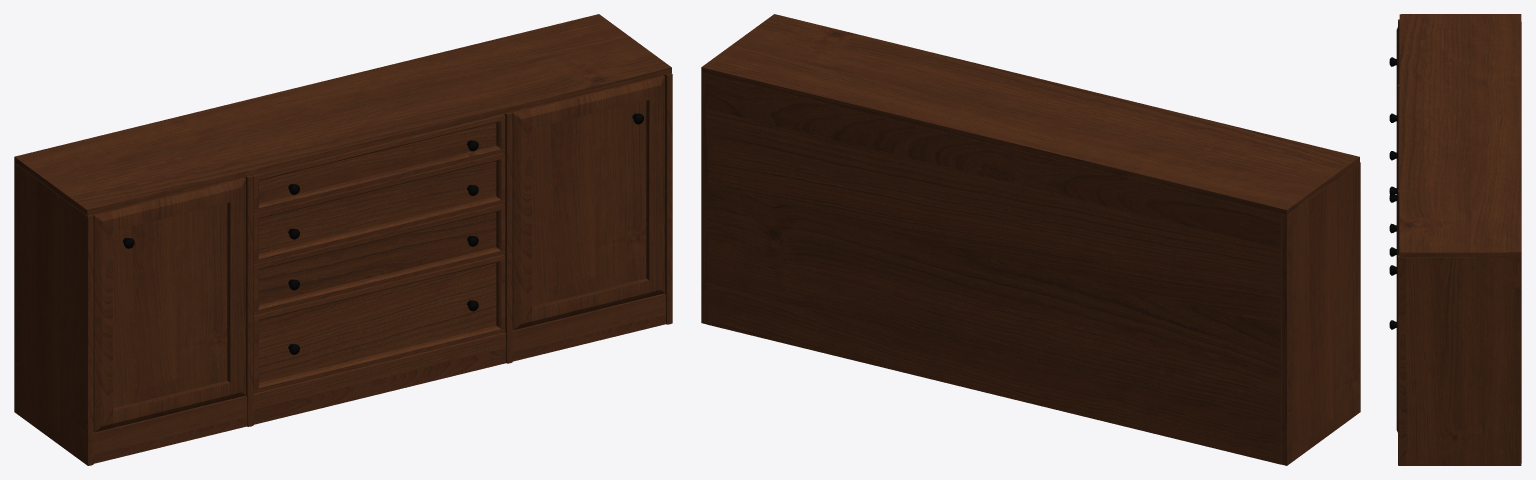
Rendered from guizi.fbx.
The picture shows the model from 3 angles, left to right: view 1: azimuth 30°, elevation 25°; view 2: azimuth 150°, elevation 25°; view 3: azimuth 270°, elevation 25°; orthographic projection. The views are drawn at different scales.
Visible parts, largest first — view 1: guizi; view 2: guizi; view 3: guizi.
Boxes of the visible parts, x1=… form: guizi: x1=14, y1=14, x2=672, y2=465; guizi: x1=701, y1=14, x2=1360, y2=465; guizi: x1=1389, y1=14, x2=1521, y2=465.
Size of the model in its own units: 200 by 83.55 by 46.8.
